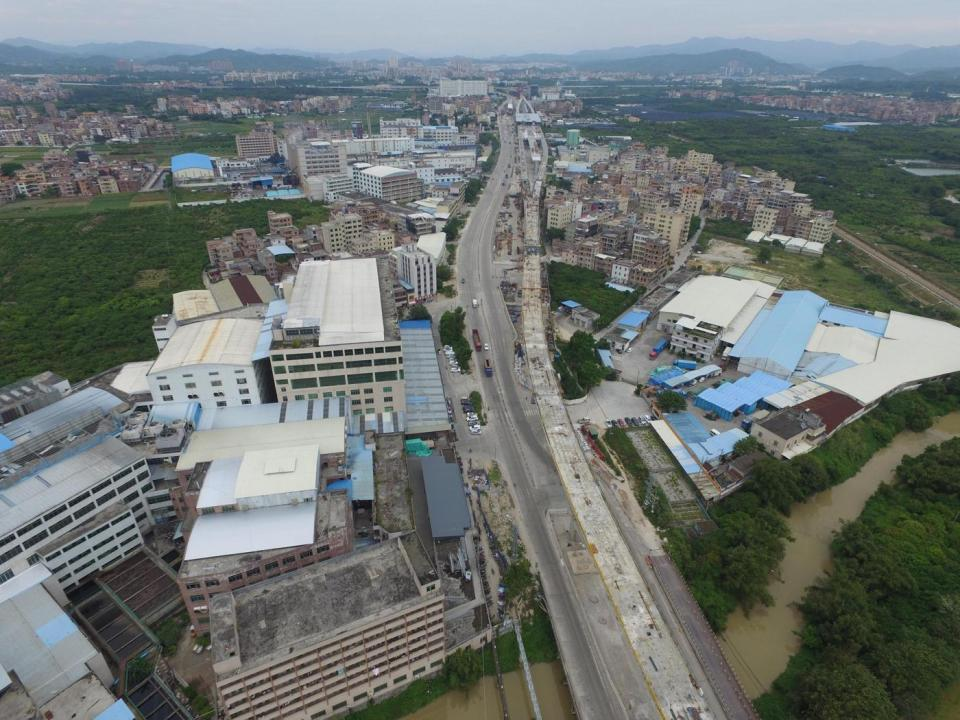car: (466, 414, 479, 421), (470, 428, 481, 436), (643, 415, 652, 424), (469, 424, 481, 430), (468, 420, 480, 426), (466, 411, 478, 417), (444, 350, 456, 356), (638, 416, 646, 425), (460, 395, 470, 402), (631, 416, 638, 426), (450, 367, 461, 373), (611, 420, 619, 428), (605, 419, 612, 428), (625, 417, 632, 426), (461, 405, 473, 410), (448, 356, 458, 362), (616, 419, 624, 426), (626, 346, 634, 353), (463, 408, 474, 413), (460, 400, 473, 404), (442, 347, 452, 352), (447, 360, 458, 364), (483, 343, 489, 350), (651, 416, 657, 423), (616, 348, 622, 354), (606, 322, 612, 328), (452, 364, 460, 368), (447, 354, 455, 358), (444, 344, 452, 348), (462, 276, 466, 284), (437, 348, 442, 354), (503, 169, 506, 172)
truck: (741, 409, 770, 429), (648, 338, 669, 361), (672, 358, 697, 369), (471, 329, 483, 351), (483, 358, 494, 377), (577, 417, 591, 424), (472, 299, 478, 308), (510, 193, 518, 198), (507, 224, 512, 230), (502, 179, 506, 186), (504, 173, 508, 178), (508, 163, 512, 168)
